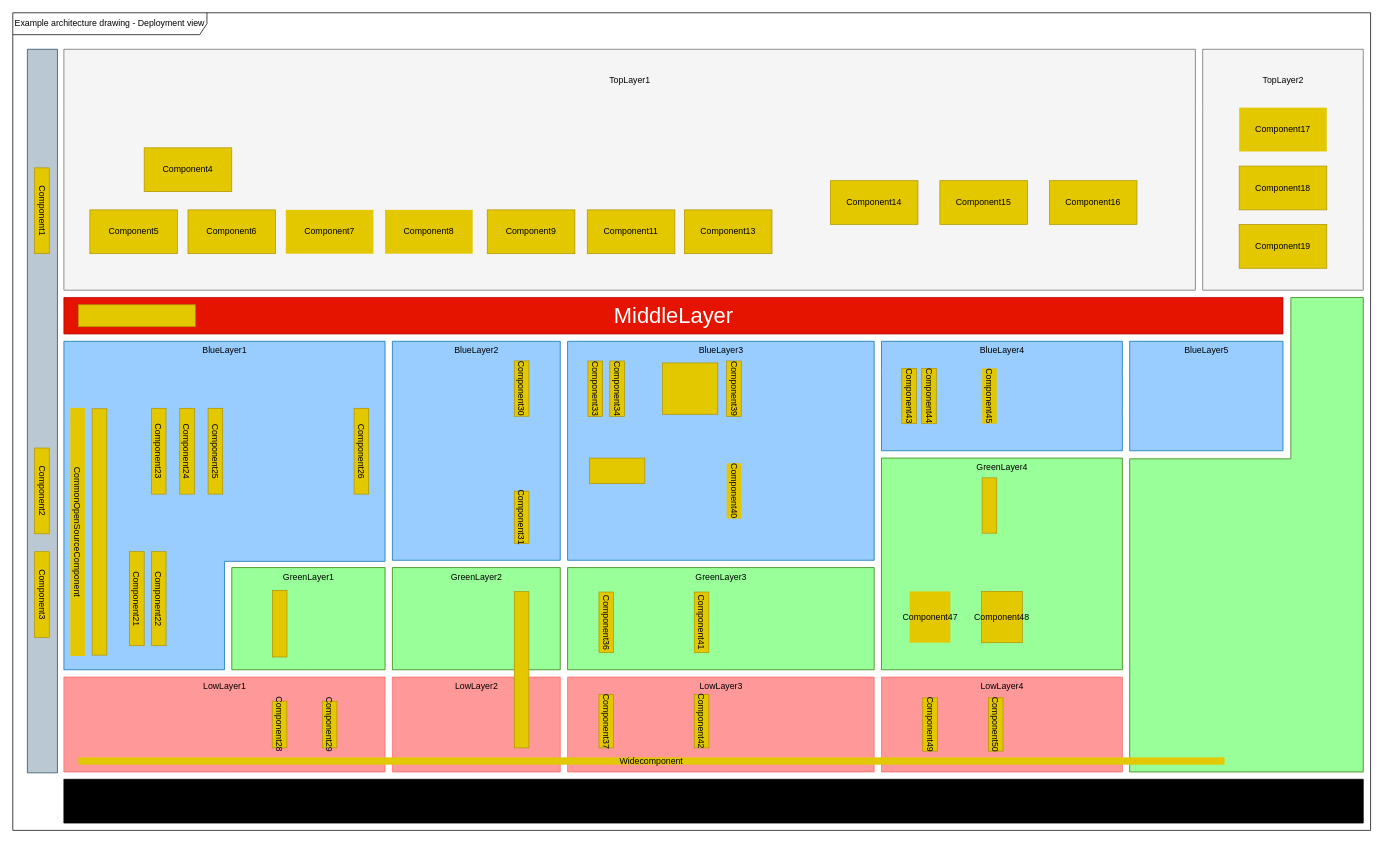
The diagram is 1383 pixels wide and 843 high, and some of its shapes have lost their labels. The shapes that lost their labels are listed below. From the top down, each one's centre as x and y in pixels, then its label:
At (136,315): "MiddleComponent".
At (690,388): "Component38".
At (42,411): "SideLayer".
At (617,470): "Component35".
At (989,505): "Component46".
At (99,531): "Component20".
At (1246,534): "GreenLayer5".
At (279,623): "Component27".
At (521,669): "Component32".
At (713,801): "LowestLayer".
